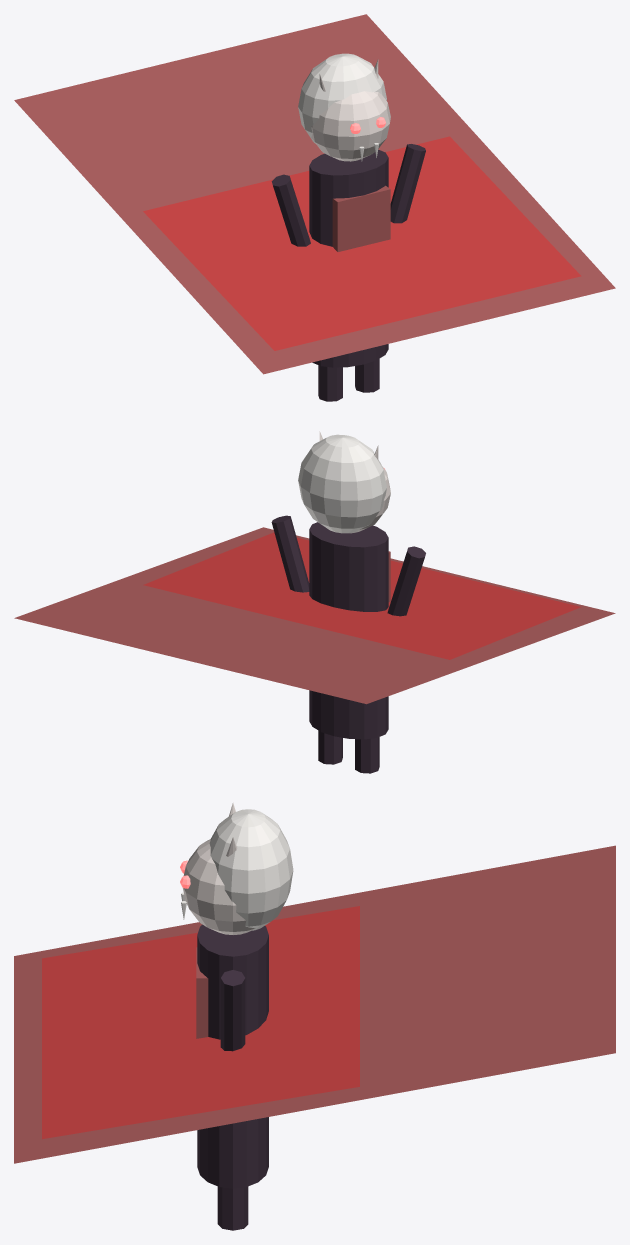
The model's file is boss_dracula.glb.
3 views of the same model, one above another, from view 1: azimuth 30°, elevation 25°; view 2: azimuth 150°, elevation 25°; view 3: azimuth 270°, elevation 25° (orthographic). The views are drawn at different scales.
Visible parts, largest first — view 1: Plane, Plane.001, Cylinder, Sphere, Sphere.003, Cube, Cylinder.002, Cylinder.001, Cylinder.003, Cylinder.004; view 2: Plane, Plane.001, Cylinder, Sphere.003, Cylinder.002, Cylinder.001, Cylinder.003, Cylinder.004; view 3: Plane, Plane.001, Cylinder, Sphere.003, Sphere, Cylinder.002, Cylinder.004, Cube.
Boxes of the visible parts, bbox=[...] form: Plane: bbox=[14, 14, 615, 374]; Plane.001: bbox=[143, 136, 581, 350]; Cylinder: bbox=[309, 149, 388, 367]; Sphere: bbox=[311, 91, 390, 161]; Sphere.003: bbox=[298, 53, 386, 143]; Cube: bbox=[332, 185, 390, 251]; Cylinder.002: bbox=[390, 144, 425, 223]; Cylinder.001: bbox=[271, 174, 310, 246]; Cylinder.003: bbox=[318, 365, 342, 401]; Cylinder.004: bbox=[355, 358, 379, 392]; Plane: bbox=[14, 527, 615, 704]; Plane.001: bbox=[143, 532, 580, 659]; Cylinder: bbox=[309, 522, 388, 739]; Sphere.003: bbox=[298, 434, 386, 533]; Cylinder.002: bbox=[271, 515, 309, 592]; Cylinder.001: bbox=[387, 546, 425, 616]; Cylinder.003: bbox=[355, 737, 379, 773]; Cylinder.004: bbox=[318, 730, 342, 764]; Plane: bbox=[14, 845, 615, 1163]; Plane.001: bbox=[42, 906, 359, 1139]; Cylinder: bbox=[197, 924, 268, 1188]; Sphere.003: bbox=[209, 809, 293, 930]; Sphere: bbox=[183, 839, 255, 934]; Cylinder.002: bbox=[220, 970, 245, 1051]; Cylinder.004: bbox=[217, 1186, 248, 1230]; Cube: bbox=[196, 947, 208, 1038].
Bounding box in the file's own units: 16.8 × 15.07 × 20.58.
